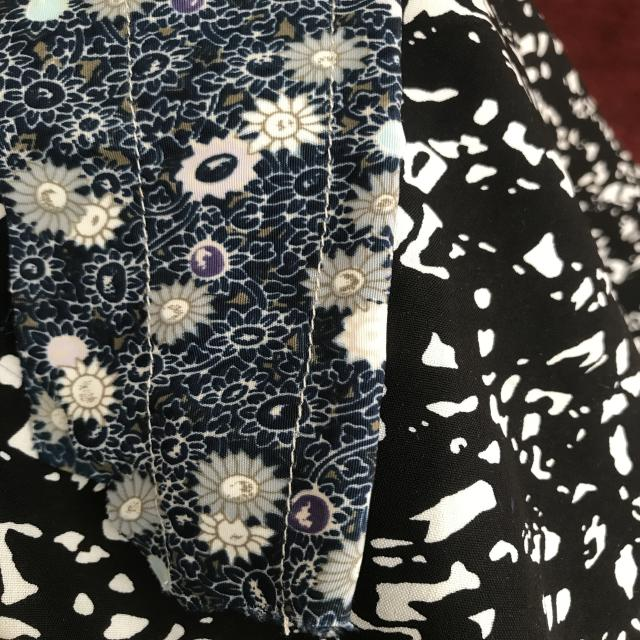good: (130, 110, 164, 235), (138, 362, 174, 459), (298, 325, 323, 447), (316, 148, 342, 225)
